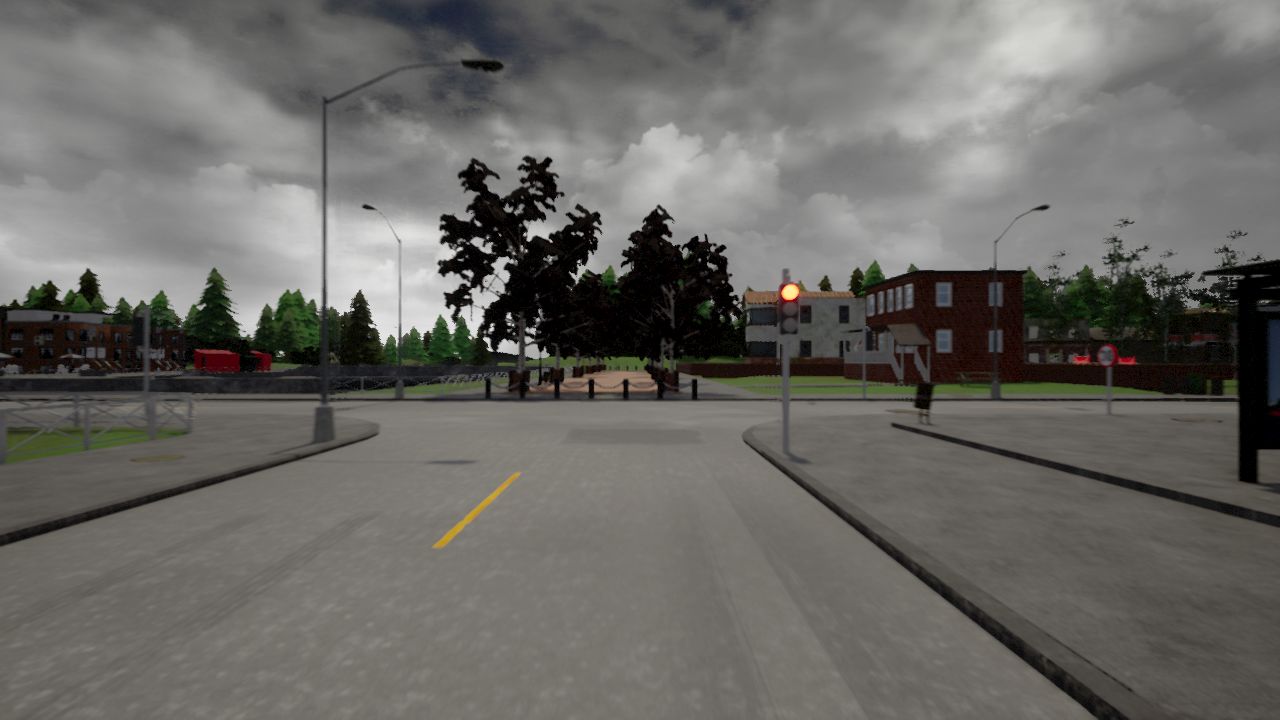red: (777, 282, 797, 336)
